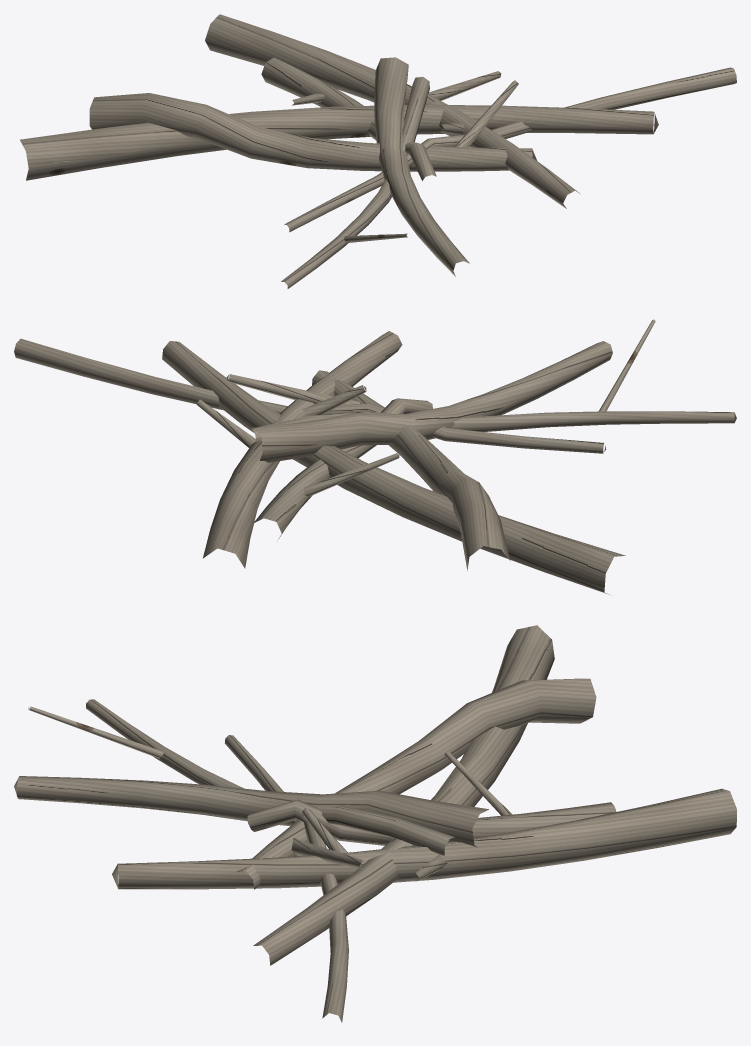
3 renders of one model, top to bottom at view 1: azimuth 30°, elevation 25°; view 2: azimuth 150°, elevation 25°; view 3: azimuth 270°, elevation 25°, orthographic. The views are drawn at different scales.
Visible parts, largest first — view 1: debris; view 2: debris; view 3: debris.
Part boxes in pixels (x1=…): debris: x1=20, y1=14, x2=736, y2=288; debris: x1=14, y1=319, x2=736, y2=594; debris: x1=14, y1=625, x2=736, y2=1022.
Bounding box in the file's own units: 2.31 × 0.1944 × 1.9.
Materials: 1 (1 with a texture image).
